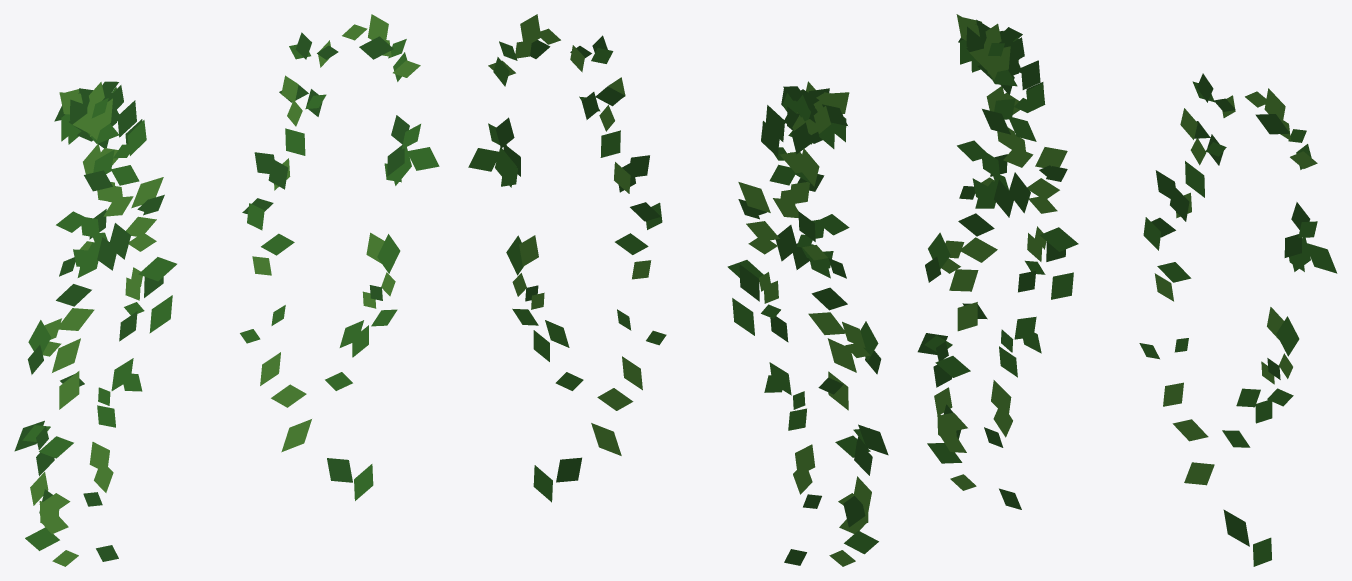
Rendered from Ivy_Wall.fbx.
The picture shows the model from 3 angles, left to right: view 1: azimuth 30°, elevation 25°; view 2: azimuth 150°, elevation 25°; view 3: azimuth 330°, elevation 25°; orthographic projection.
Visible parts, largest first — view 1: Ivy_Wall.001; view 2: Ivy_Wall.001; view 3: Ivy_Wall.001.
Boxes of the visible parts, box(x1,y1,x2,y2) form: Ivy_Wall.001: box(14, 14, 439, 566); Ivy_Wall.001: box(468, 14, 888, 566); Ivy_Wall.001: box(917, 14, 1337, 566).
Size of the model in its own units: 1.9 by 2.08 by 0.0297.
